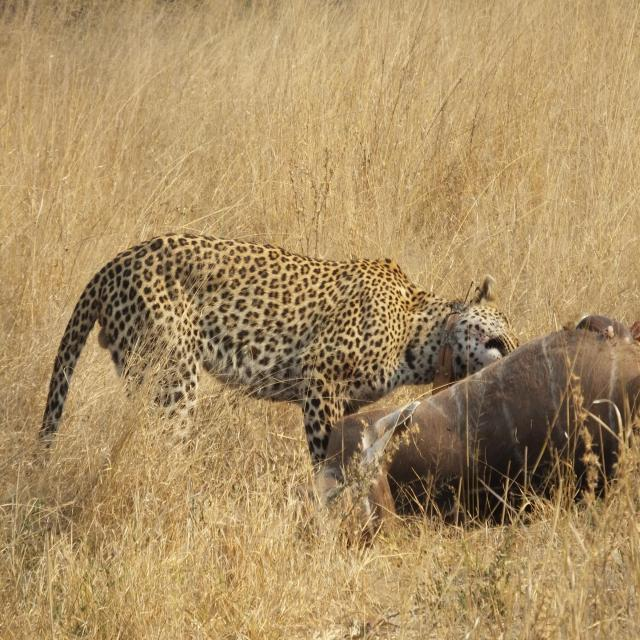Leopard: (29, 240, 524, 481)
